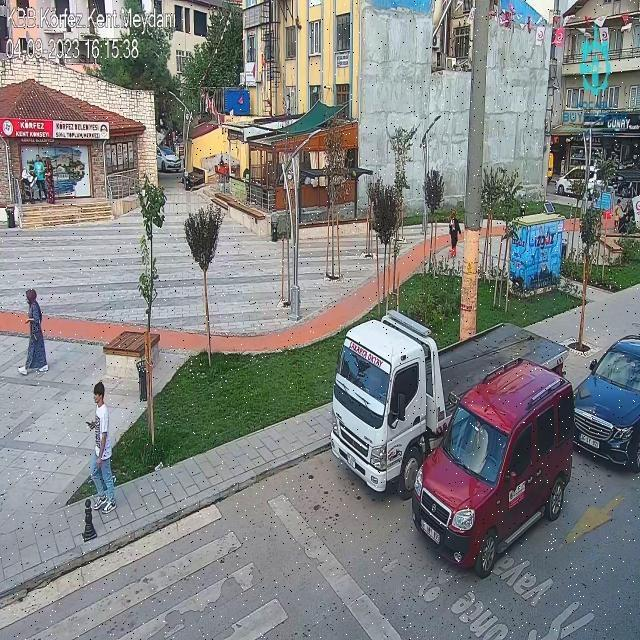Car: (413, 355, 576, 578), (574, 335, 640, 473), (554, 166, 602, 199), (156, 144, 182, 174)
Truck: (330, 310, 574, 500)
